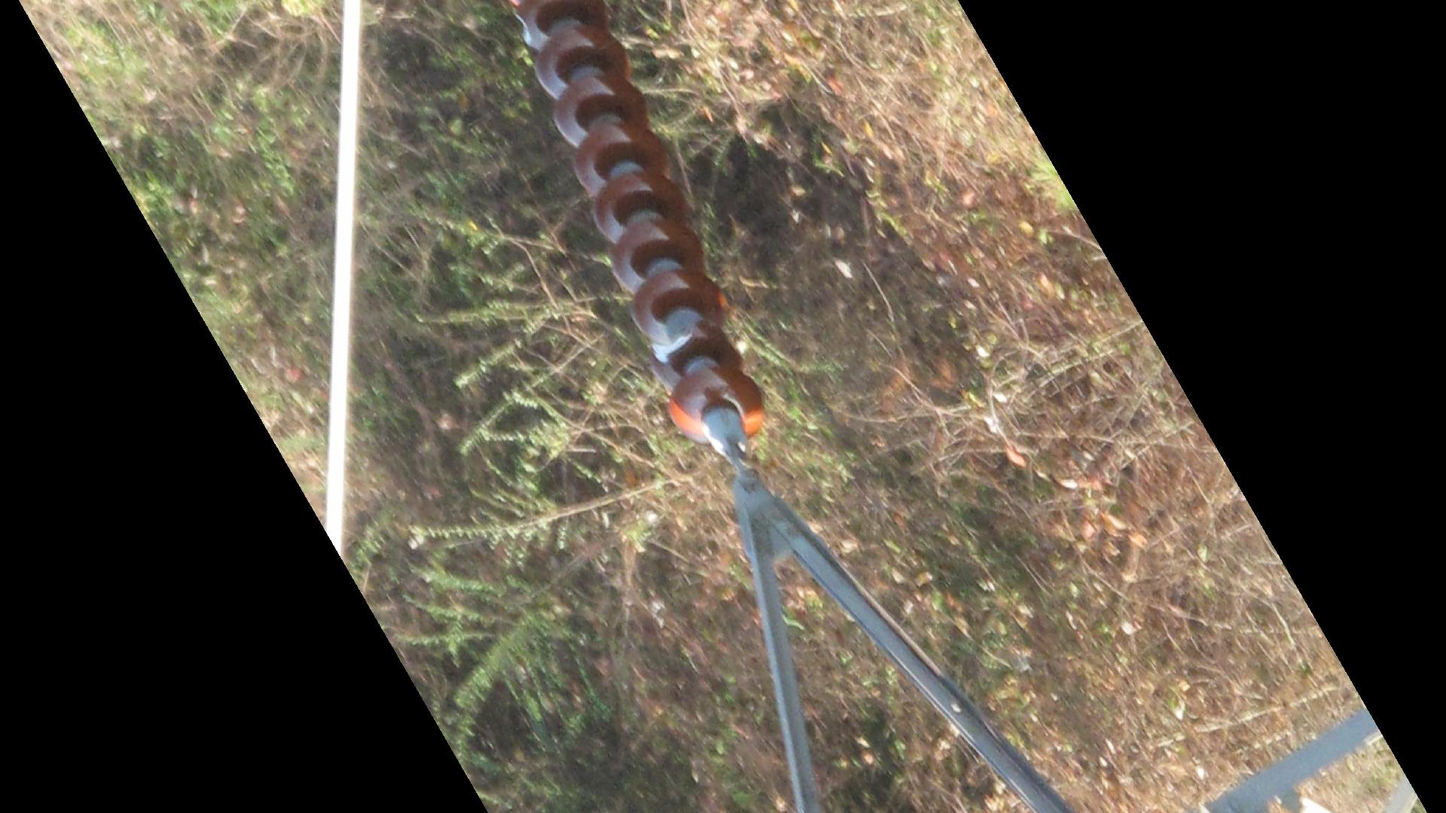insulator: (503, 1, 772, 451)
insulator_breakage: (642, 315, 709, 367)
